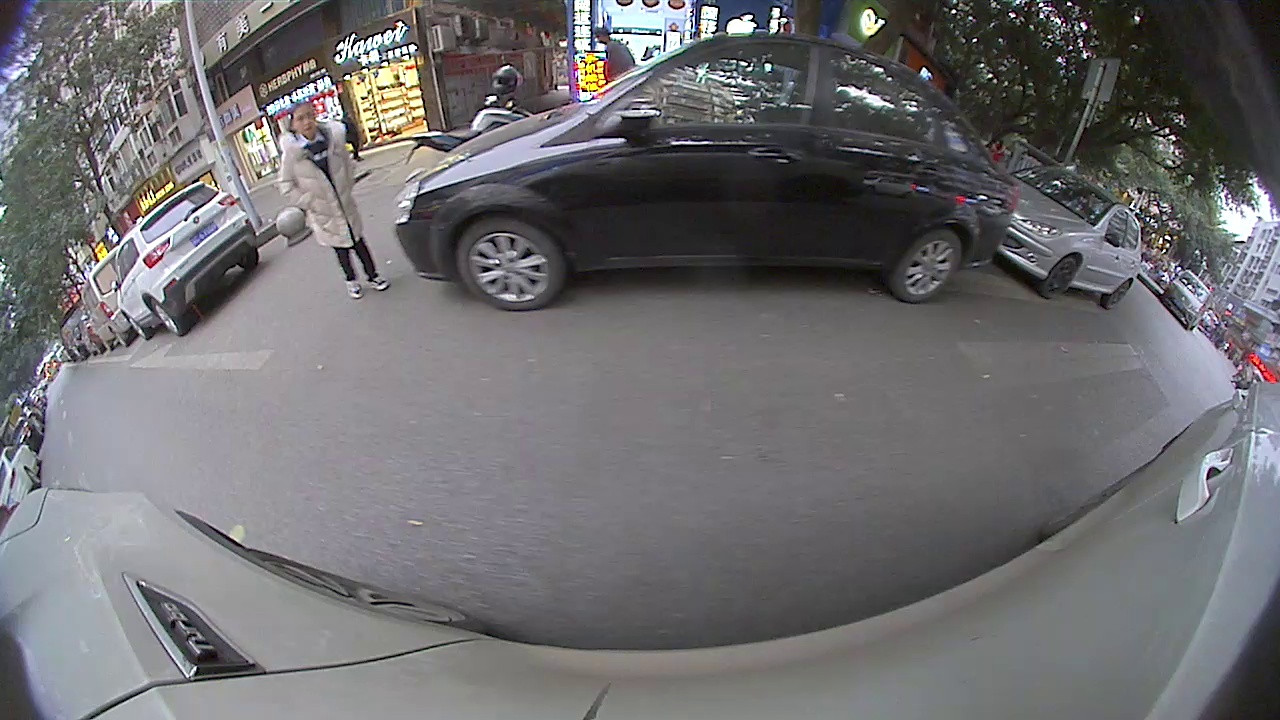car: (394, 35, 1021, 311), (116, 182, 261, 341), (995, 163, 1142, 310), (83, 250, 131, 349), (1160, 267, 1214, 328), (0, 441, 41, 511)
front: (457, 219, 568, 310), (1043, 256, 1079, 298)
person: (280, 98, 344, 303)
rear: (894, 228, 963, 303), (142, 296, 188, 335), (1104, 272, 1136, 307)
